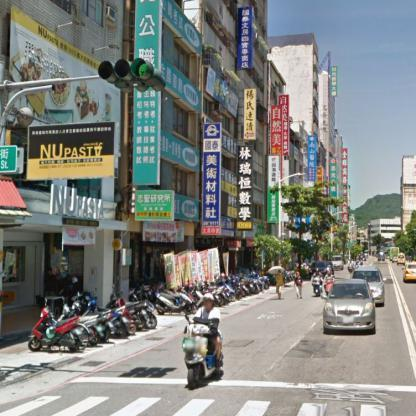Green Light: (98, 61, 155, 79)
